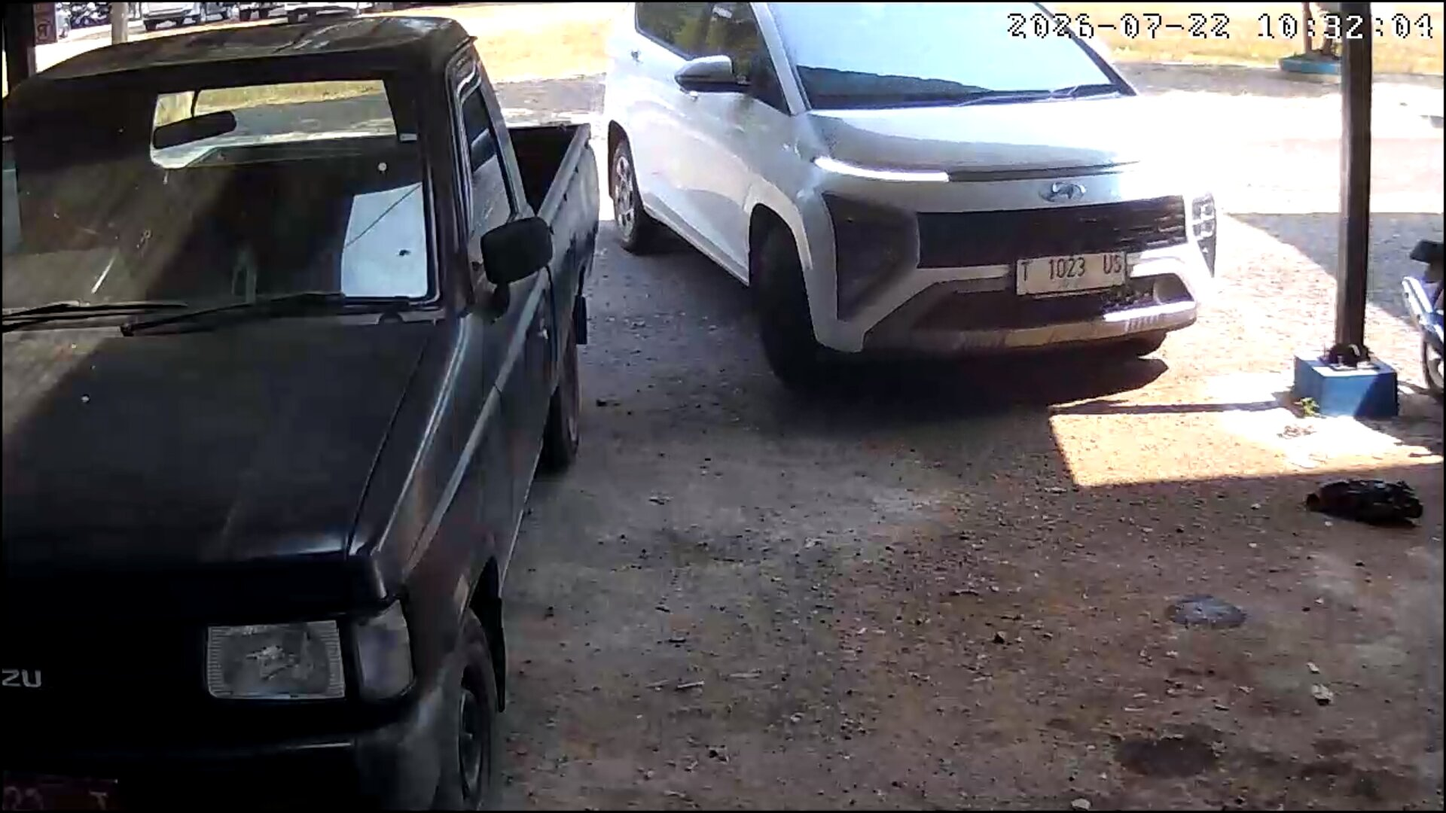plat nomor: (1014, 251, 1126, 297)
